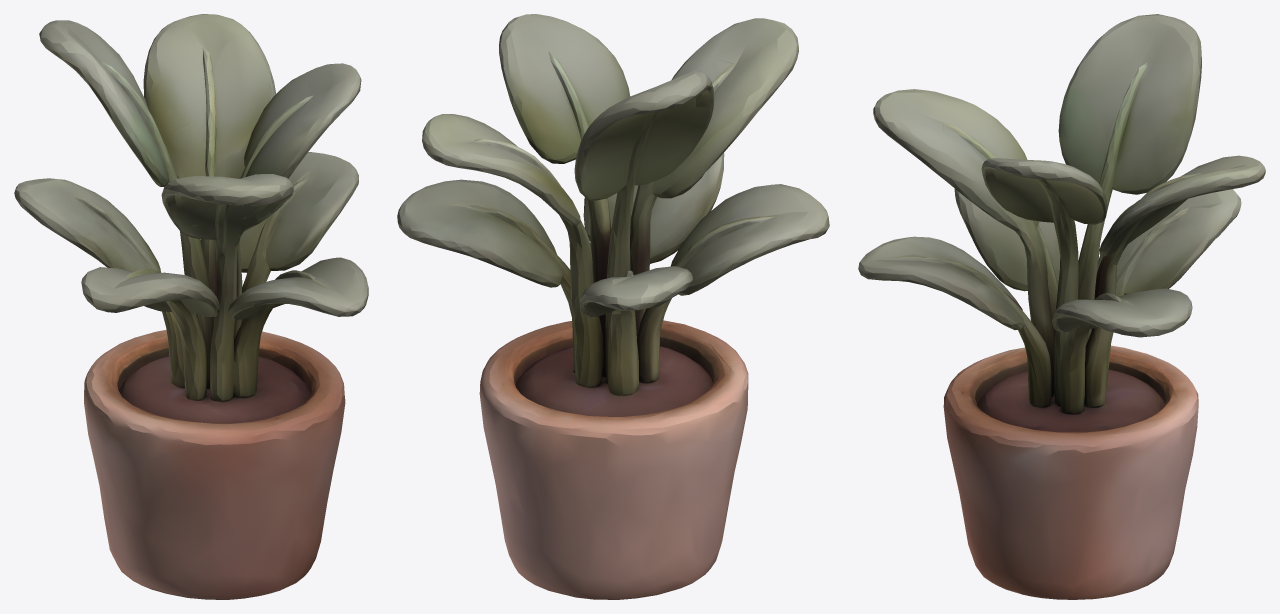
The model's file is GreenPlant.glb.
The picture shows the model from 3 angles, left to right: view 1: azimuth 30°, elevation 25°; view 2: azimuth 150°, elevation 25°; view 3: azimuth 270°, elevation 25°; orthographic projection. The views are drawn at different scales.
Visible parts, largest first — view 1: model; view 2: model; view 3: model.
Part boxes in pixels (x1,y1,x2,y2): model: (14, 14, 368, 599); model: (397, 14, 829, 599); model: (858, 14, 1265, 599).
Size of the model in its own units: 1.21 by 1.81 by 1.35.
1 material, 1 textured.
